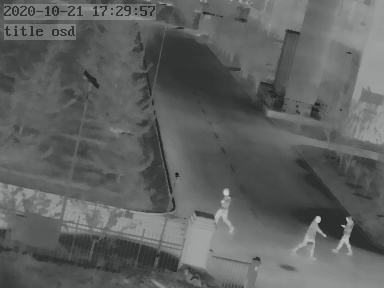person: (302, 213, 324, 257), (219, 187, 235, 231), (337, 213, 352, 254)
